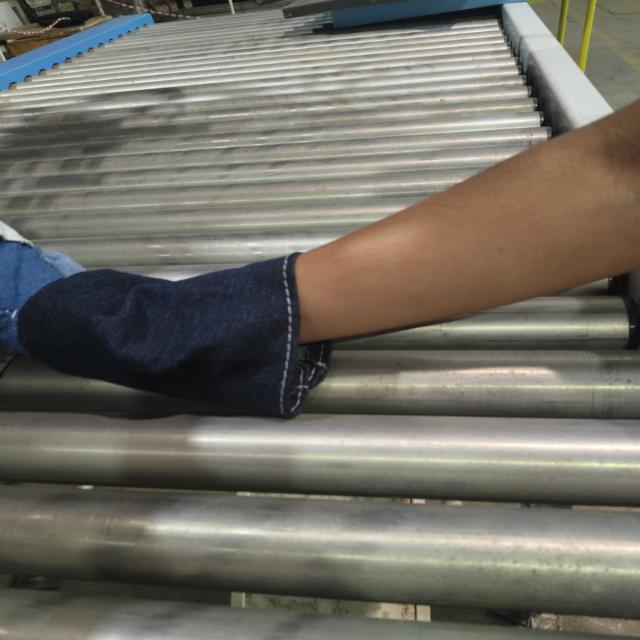Gloves-Detection: (0, 222, 311, 416)
